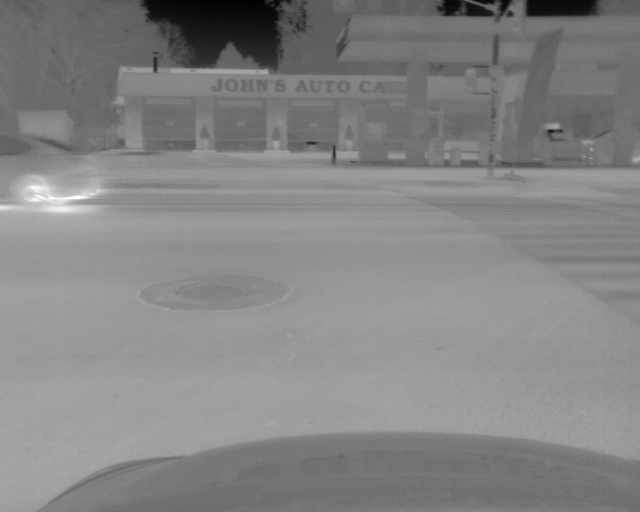car: (1, 130, 103, 207)
